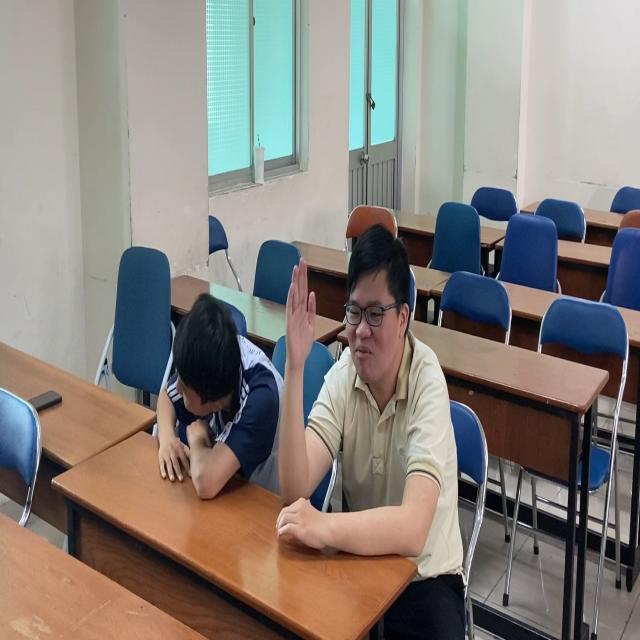raise_hand: (275, 215, 470, 582)
